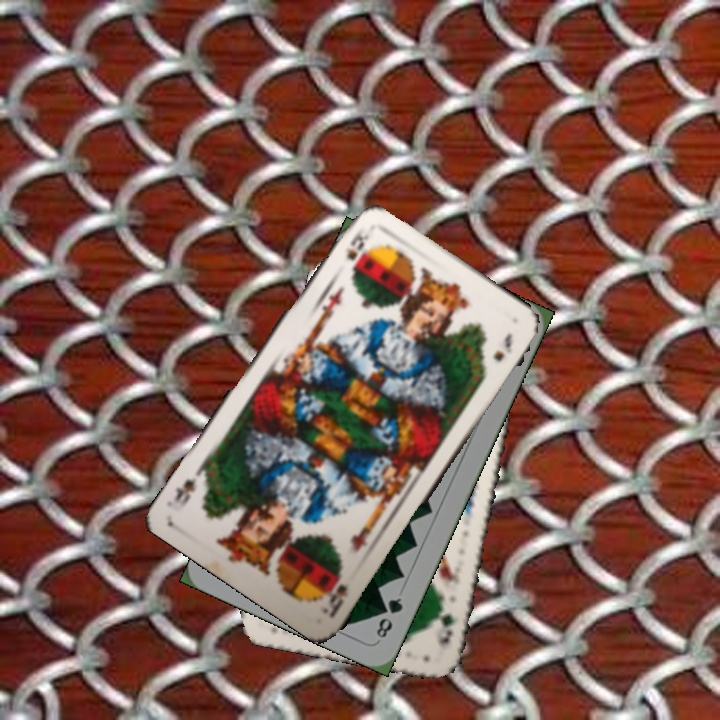G8: (372, 593, 406, 641)
GK: (433, 595, 457, 649)
SK: (317, 571, 351, 621), (341, 222, 372, 264)
